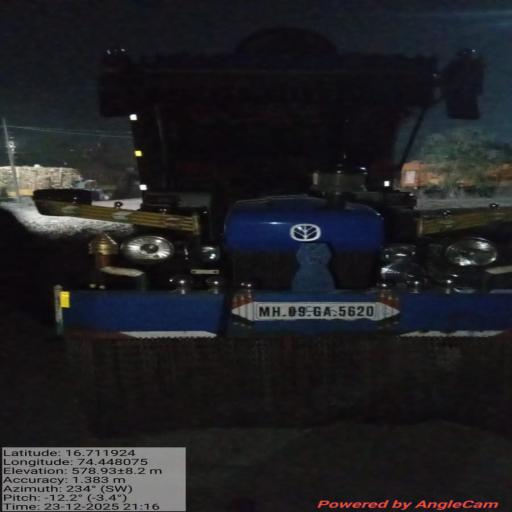number_plate: (235, 298, 411, 322)
